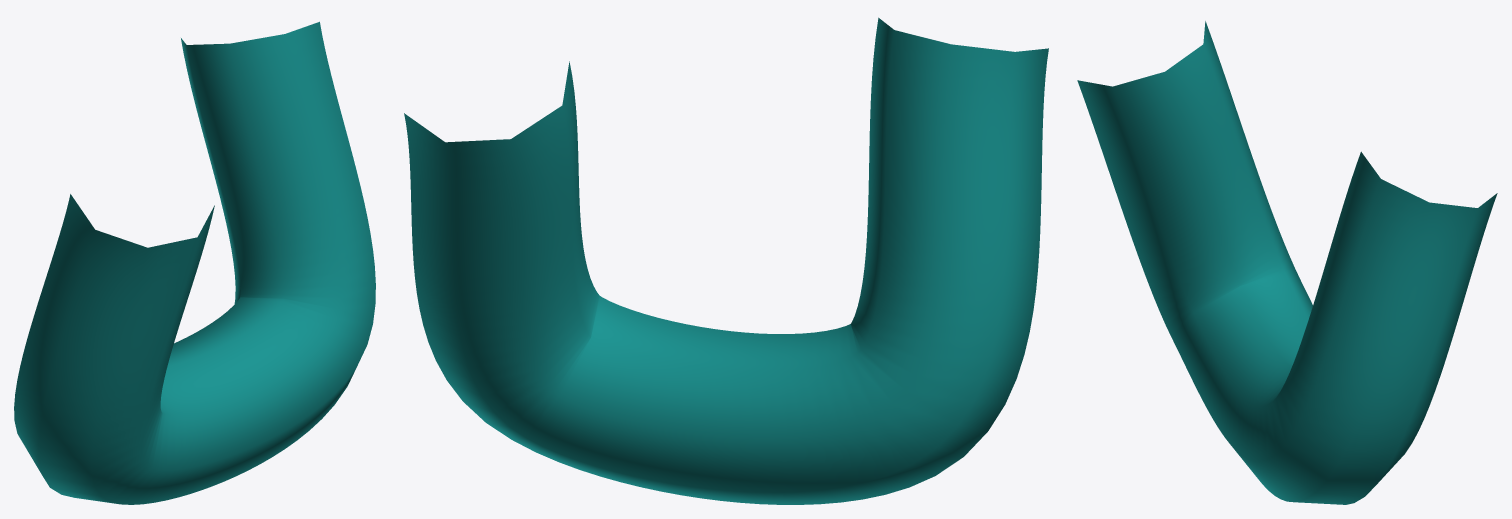
Rendered from vacamix.gltf.
3 renders of one model, left to right at view 1: azimuth 30°, elevation 25°; view 2: azimuth 150°, elevation 25°; view 3: azimuth 270°, elevation 25°, orthographic. The views are drawn at different scales.
Visible parts, largest first — view 1: Tube; view 2: Tube; view 3: Tube.
Boxes of the visible parts, box(x1,y1,x2,y2) form: Tube: box(14, 21, 375, 504); Tube: box(404, 17, 1048, 504); Tube: box(1077, 21, 1497, 504).
Size of the model in its own units: 6.53 by 5.79 by 5.84.
